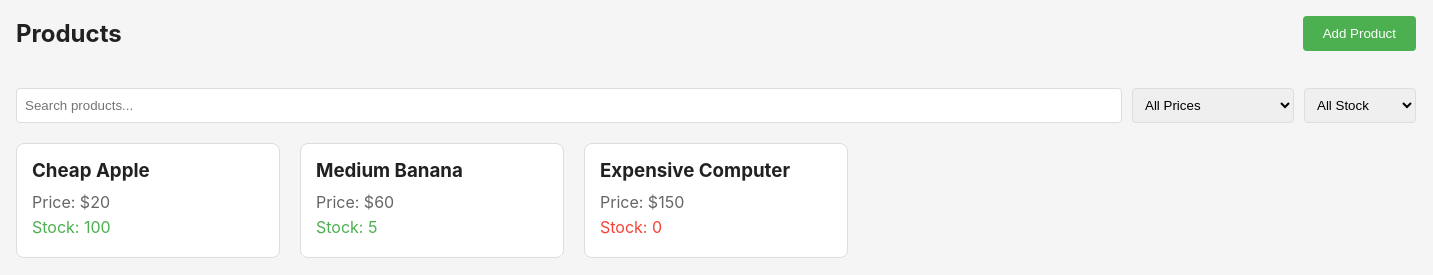
Test: ProductList Component › filters products by fuzzy search
The image size is (1433, 275).
Expected: the heading "Cheap Apple" is shown, [32, 159, 150, 182]
Type "Banana" into the field with placeholder "Search products...".
click(569, 105); type("Banana")  # box [16, 88, 1122, 123]
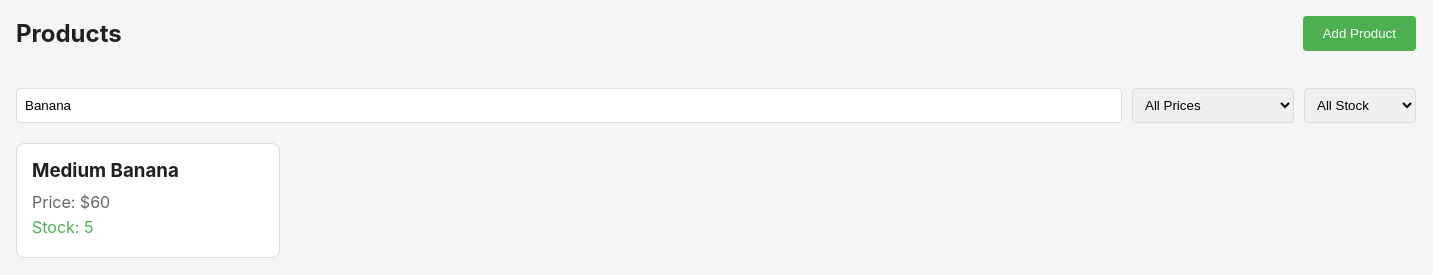
Expected: the heading "Medium Banana" is shown, [32, 159, 179, 182]
Expected: the heading "Cheap Apple" is gone
Replace the text in the field with placeholder "Search products..." with "aple" at (569, 105), box [16, 88, 1122, 123]
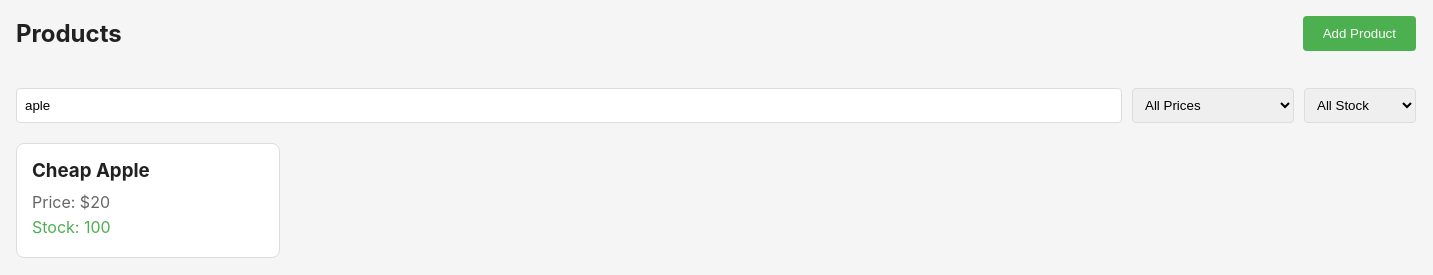
Expected: the heading "Cheap Apple" is shown, [32, 159, 150, 182]
Expected: the heading "Medium Banana" is gone
